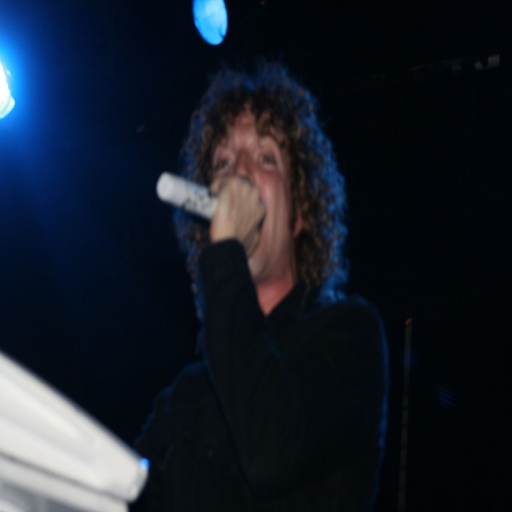hand: (211, 173, 266, 248)
